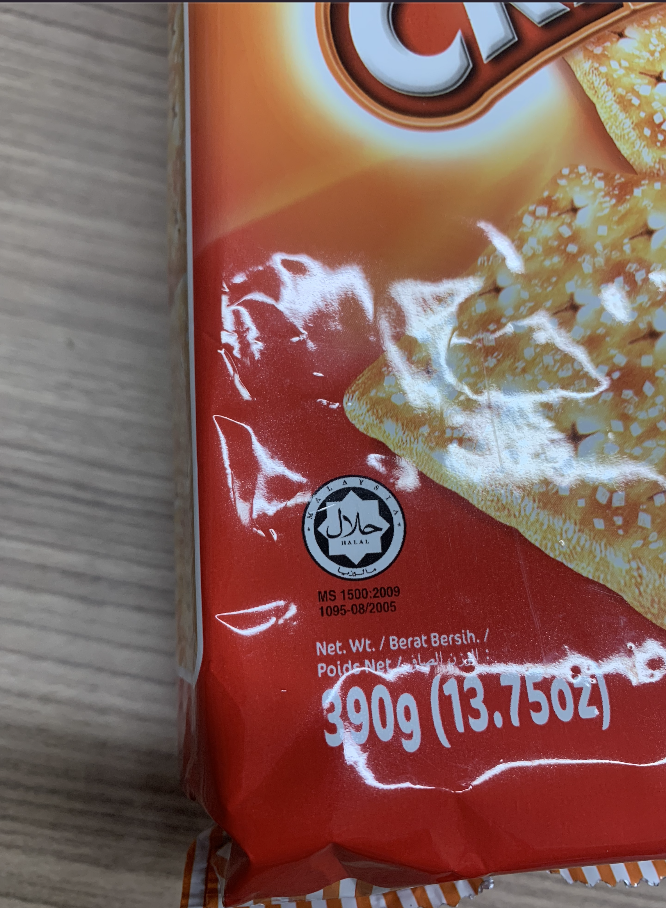halal: (316, 489, 391, 561)
